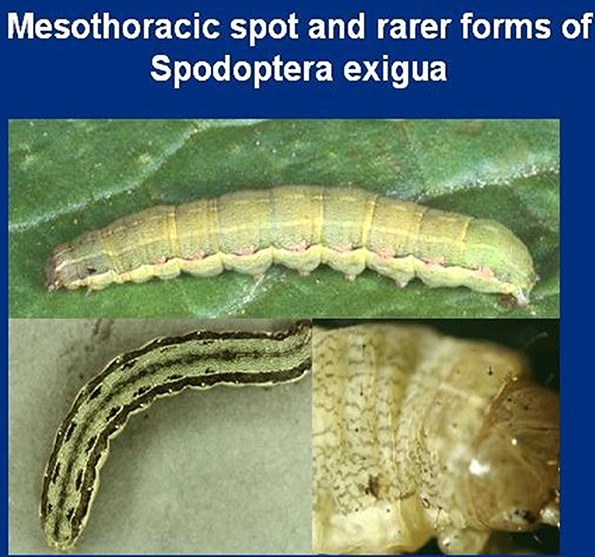Armyworm: (11, 328, 334, 547), (31, 175, 540, 298)
